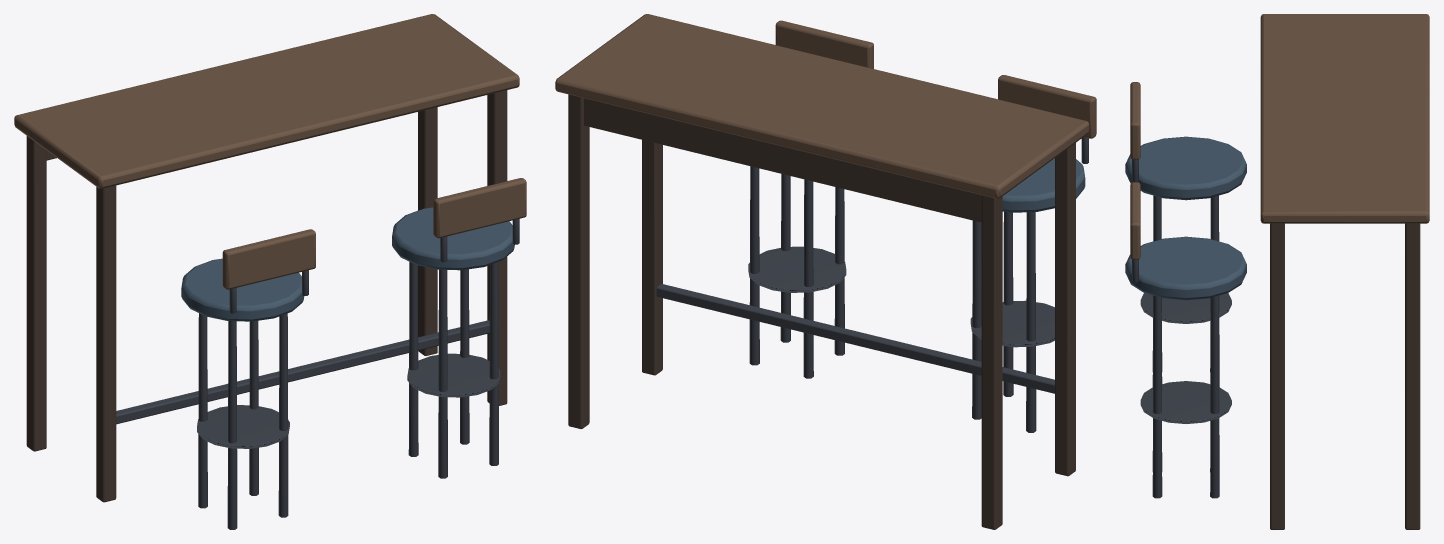
File: dining_bar.fbx
The picture shows the model from 3 angles, left to right: view 1: azimuth 30°, elevation 25°; view 2: azimuth 150°, elevation 25°; view 3: azimuth 270°, elevation 25°; orthographic projection. The views are drawn at different scales.
Parts seen in each view (by area): view 1: dining_bar; view 2: dining_bar; view 3: dining_bar.
Part boxes in pixels (left/top/right/bottom): dining_bar: left=14, top=14, right=526, bottom=529; dining_bar: left=555, top=14, right=1096, bottom=529; dining_bar: left=1125, top=14, right=1429, bottom=529.
Bounding box in the file's own units: 1.4 × 0.9 × 1.05.
